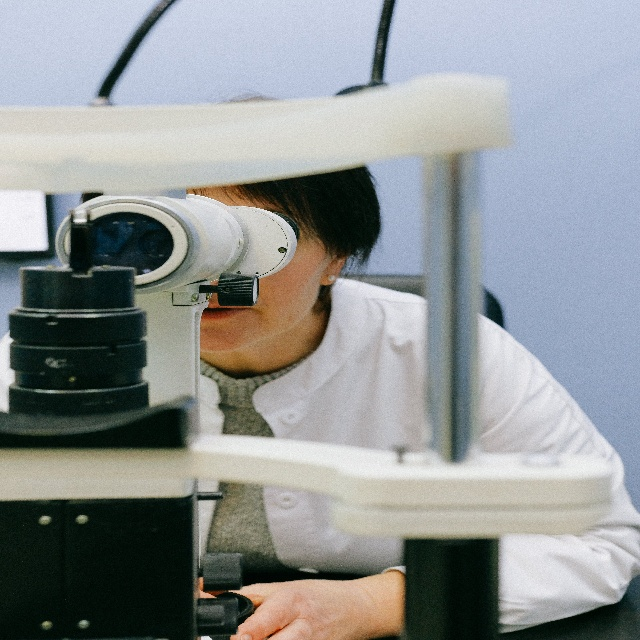Sin_guantes: (227, 577, 372, 640)
